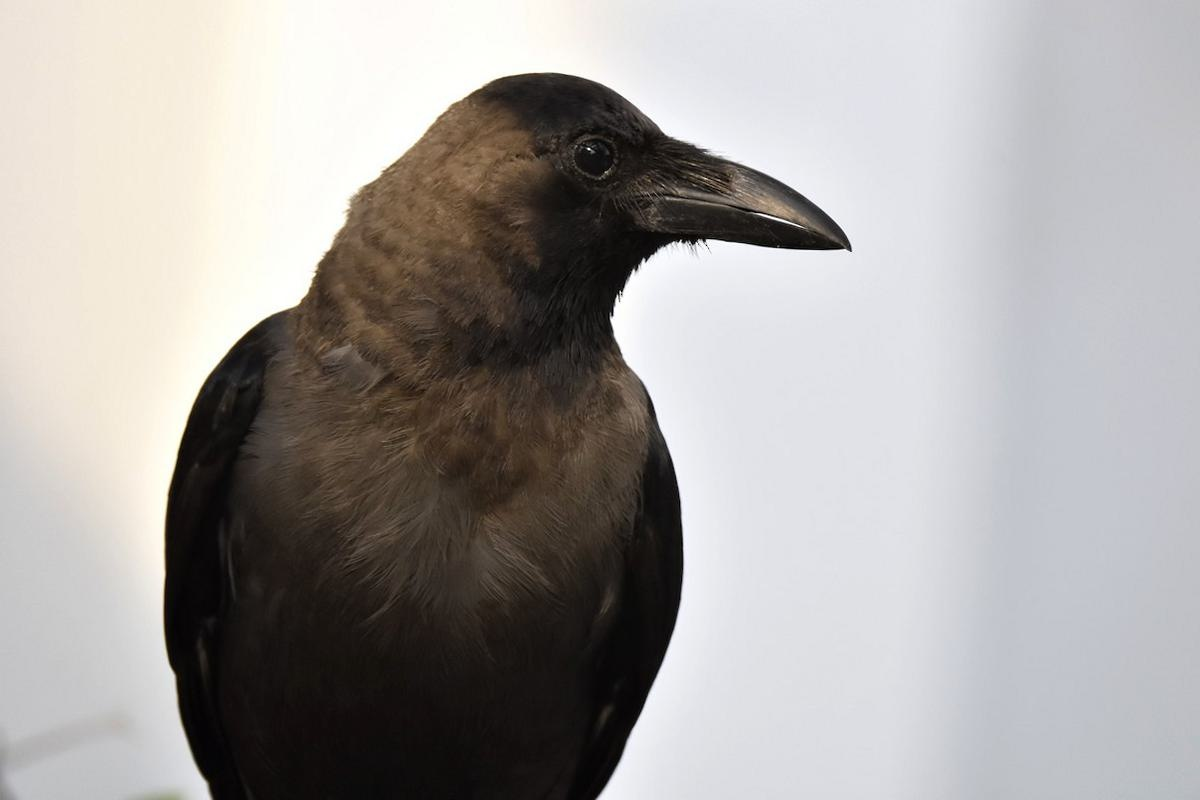crow: (174, 58, 854, 800)
